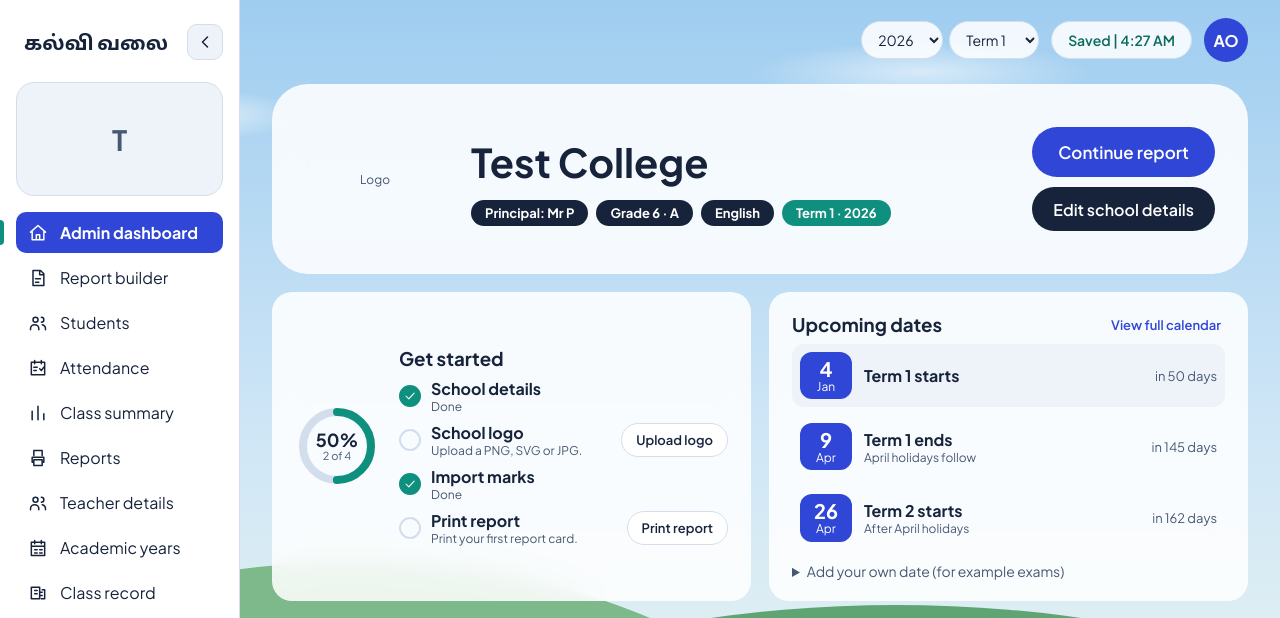
admin, teacher and student dashboards › shows student records from all available classes when selected
Click the button "Class record".
click(120, 592)  # box 16,572 -> 223,613
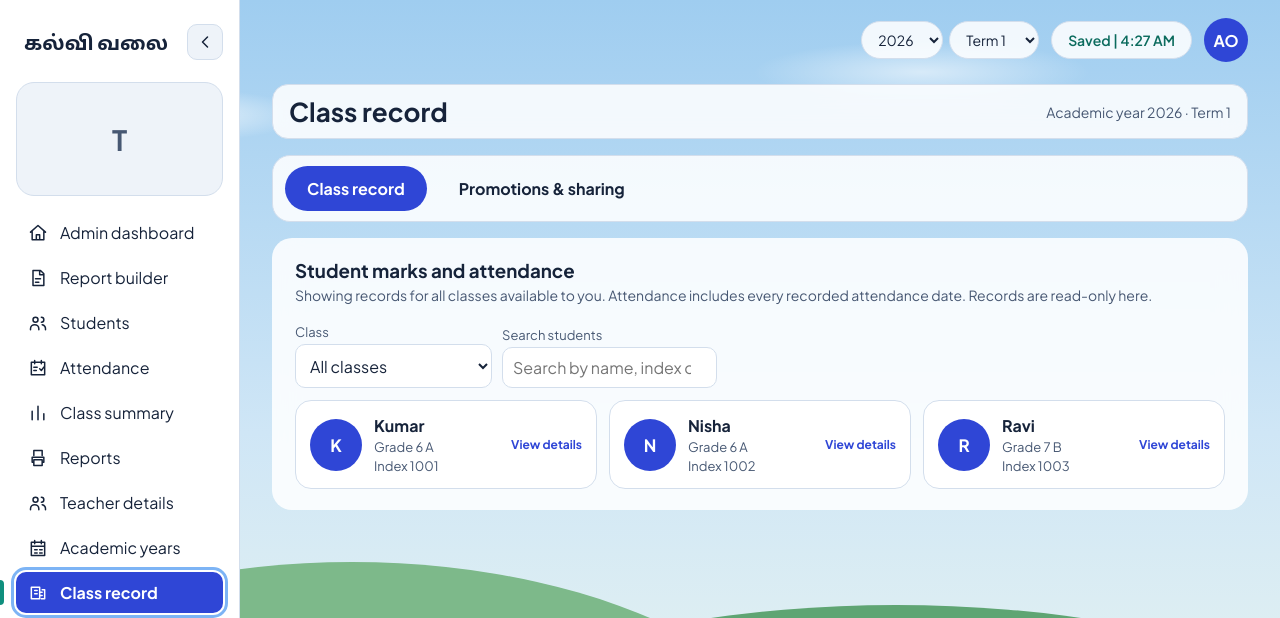
Expected: the dropdown named "Class record class" shows "All classes"
Select "Grade 6 · all classes" in the dropdown named "Class record class" at coordinates (394, 366), box 295,344 -> 492,388
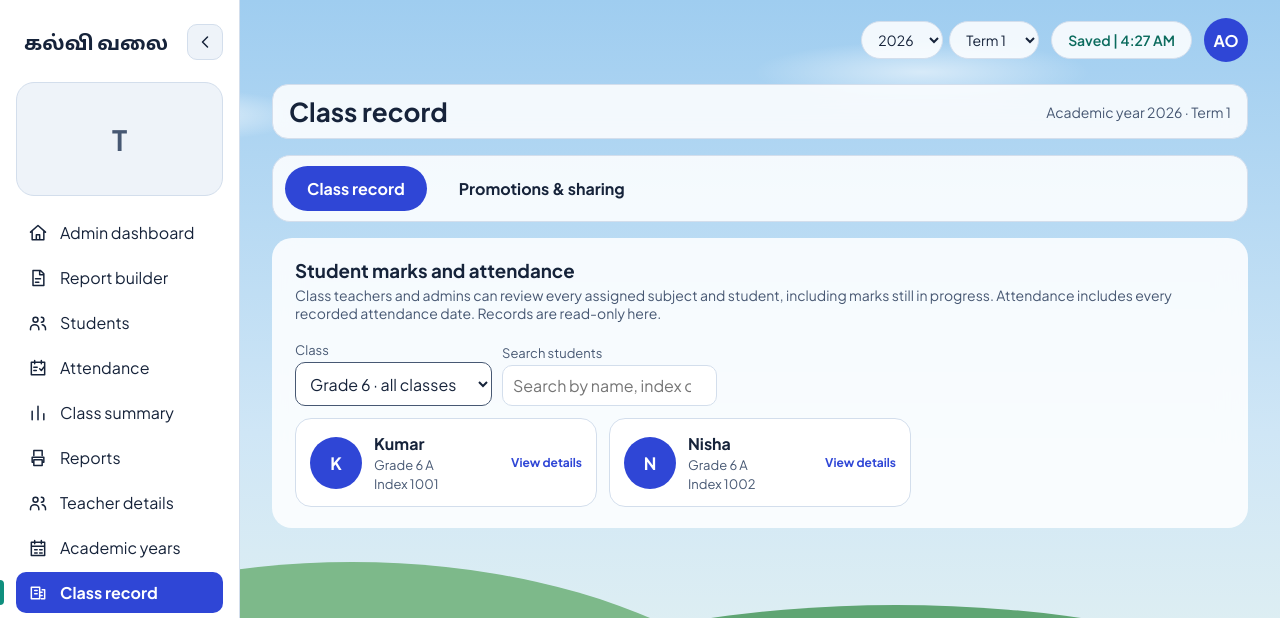
Expected: the button with aria-label "View student details for Kumar" is shown, 295,418 -> 597,507
Expected: the button with aria-label "View student details for Nisha" is shown, 609,418 -> 911,507
Select "All classes" in the dropdown named "Class record class" at coordinates (394, 384), box 295,362 -> 492,406
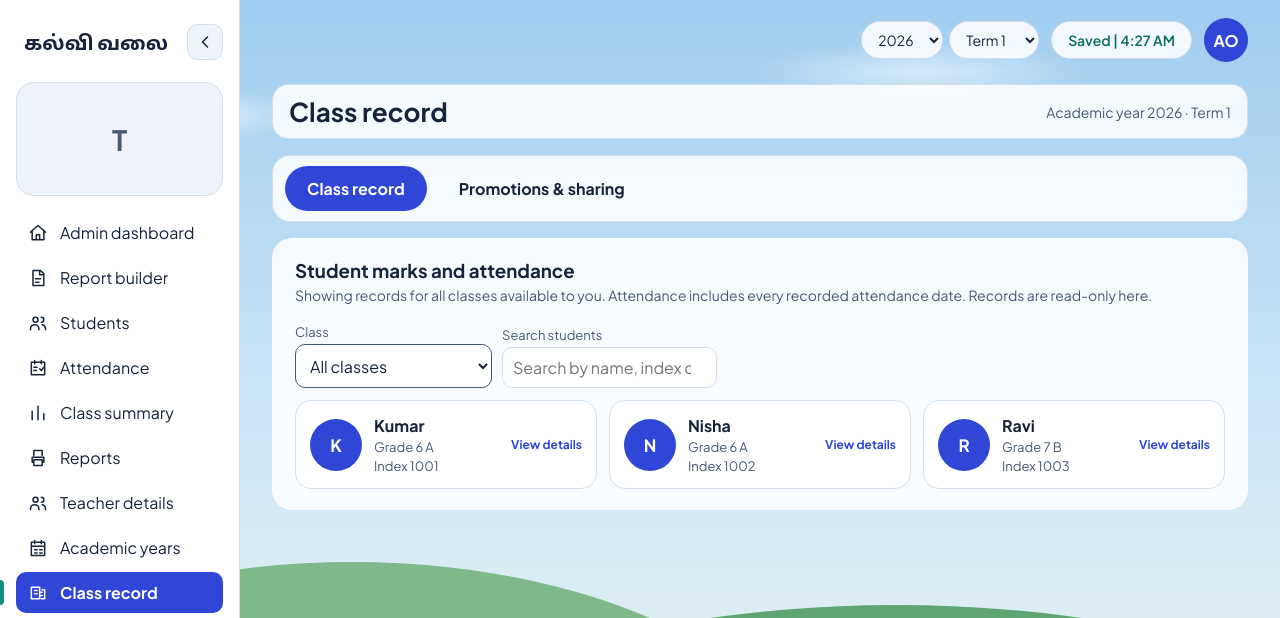
Expected: the button with aria-label "View student details for Kumar" is shown, 295,400 -> 597,489
Expected: the button with aria-label "View student details for Nisha" is shown, 609,400 -> 911,489
Expected: the button with aria-label "View student details for Ravi" is shown, 923,400 -> 1225,489
